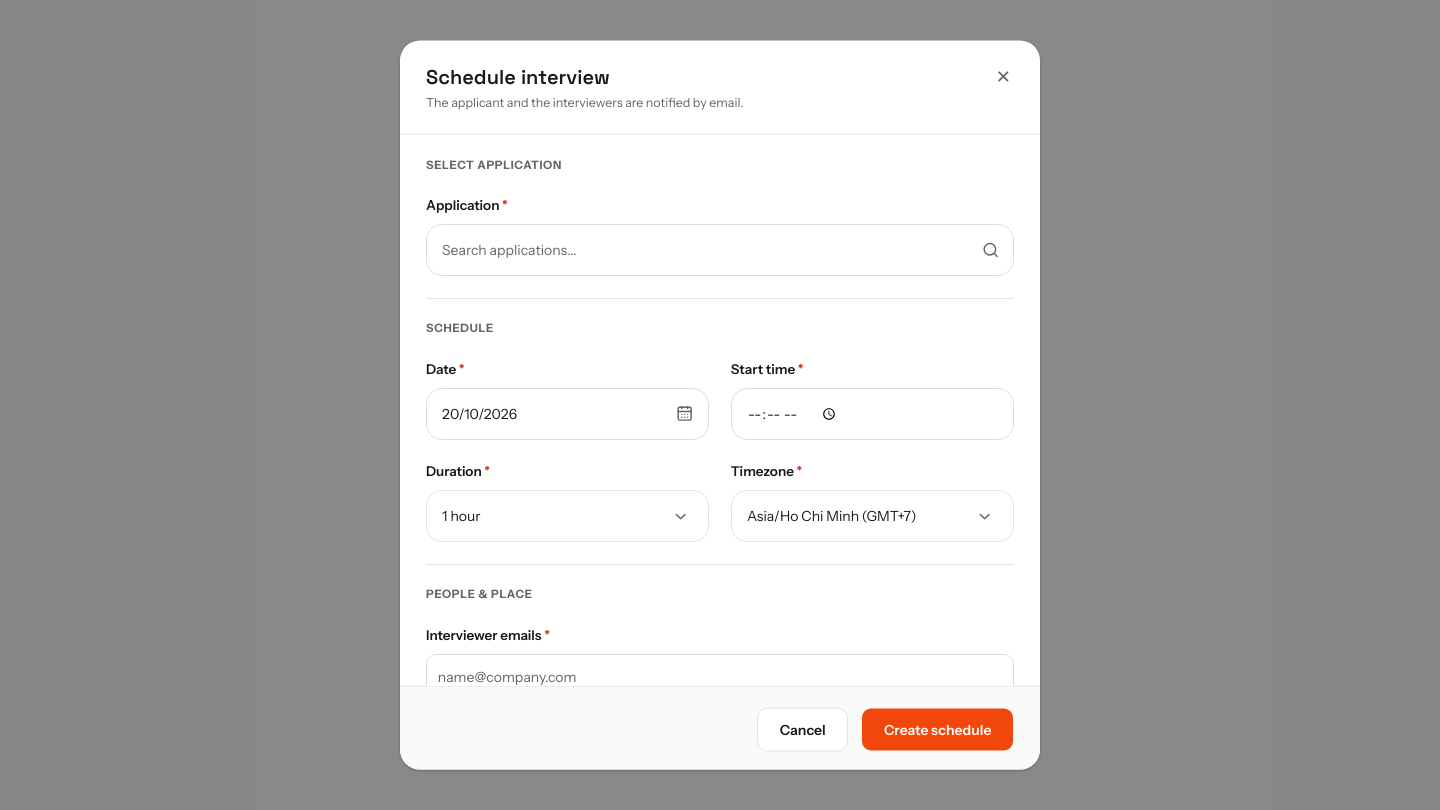
it: Schedule interview dialog › says how long the interview runs once the date and the time are there
This screenshot has width=1440, height=810.
Type "10:00" into the time field labelled "Start time *" at (872, 413), box [731,388,1014,439]
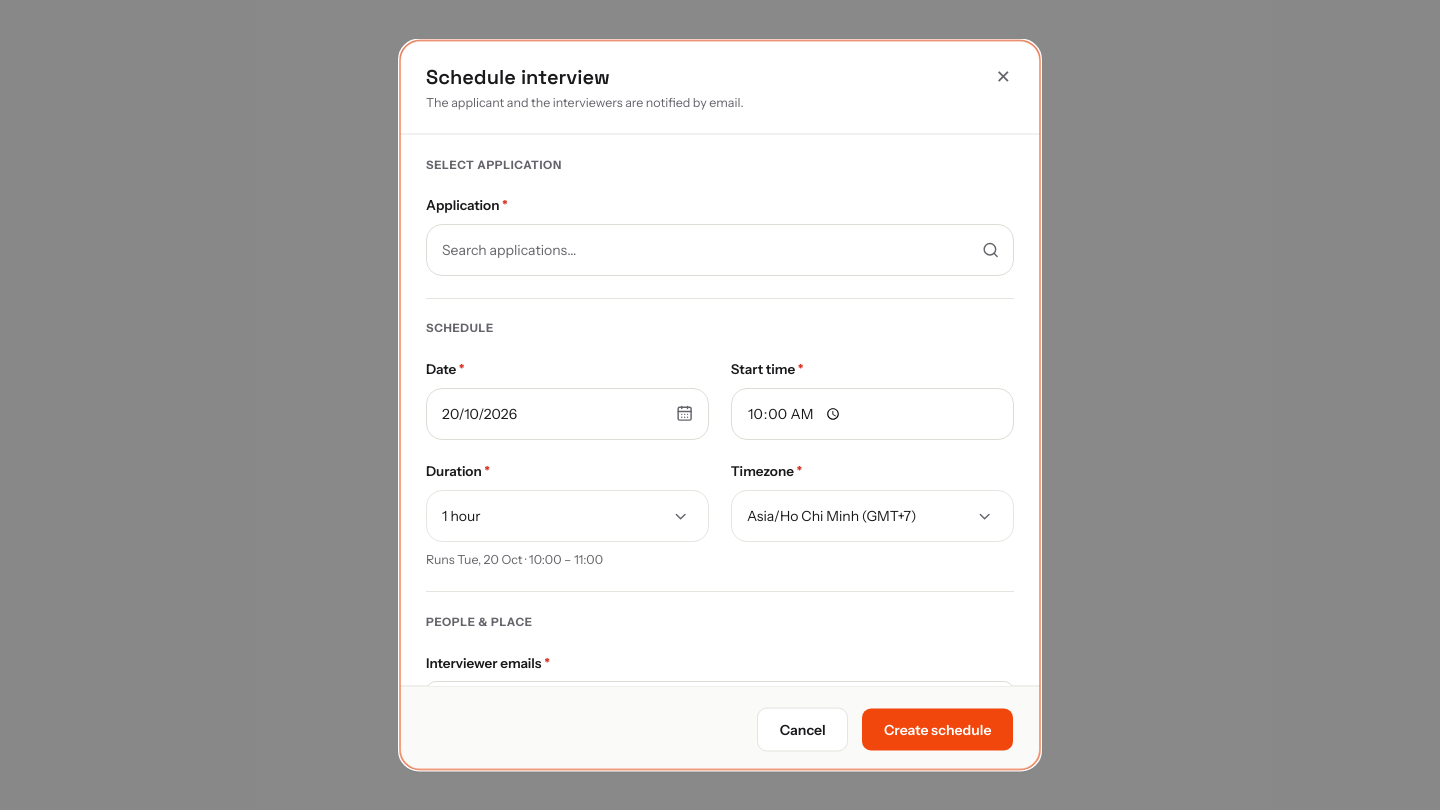
Now the text "Runs Tue, 20 Oct · 10:00 – 11:00" is shown, box [426,551,603,566]
